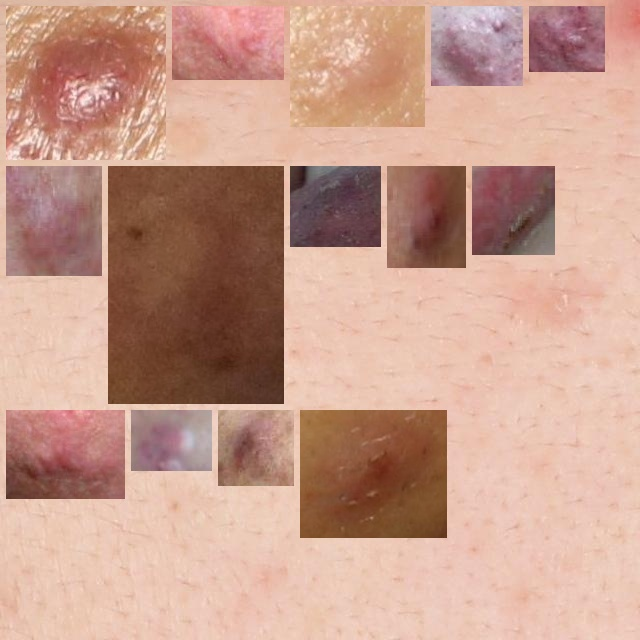nodule: (116, 174, 276, 396), (14, 14, 158, 152), (308, 418, 439, 530), (298, 14, 417, 119), (14, 174, 94, 268), (14, 418, 117, 491), (180, 14, 276, 72), (395, 174, 458, 260), (480, 174, 547, 247), (298, 174, 373, 239), (439, 14, 515, 78), (226, 418, 286, 478), (537, 14, 597, 64), (139, 418, 204, 463)
